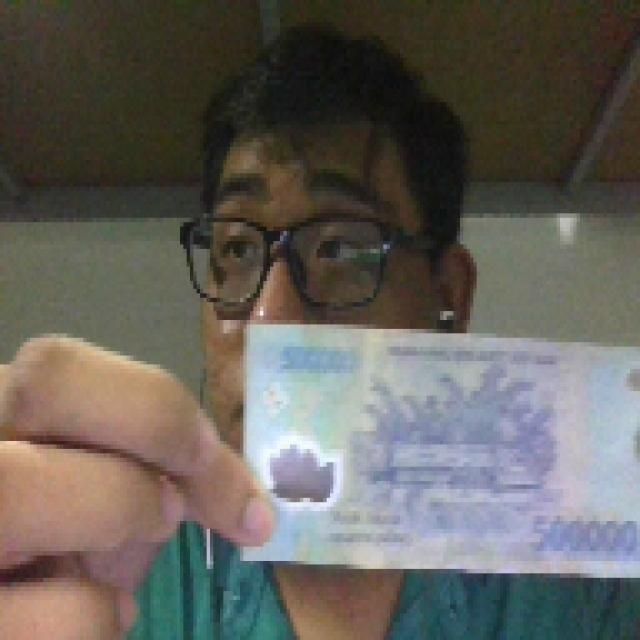500 000 VND: (233, 316, 637, 586)
